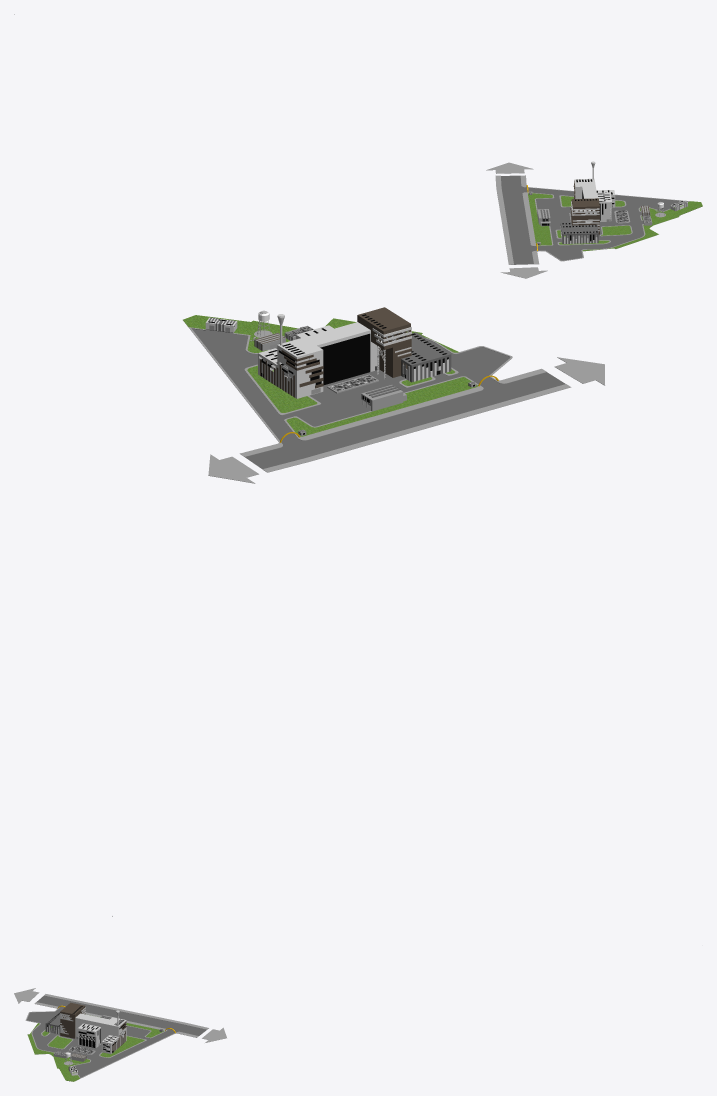
The model's file is dacbiet(test3).glb.
The picture shows the model from 3 angles, top to bottom: view 1: azimuth 30°, elevation 25°; view 2: azimuth 150°, elevation 25°; view 3: azimuth 270°, elevation 25°; orthographic projection. The views are drawn at different scales.
Parts seen in each view (by area): view 1: _(Loose Entity), _nha sx chinh (C-Component#22) (Loose Mesh); view 2: _(Loose Entity), _nha sx chinh (C-Component#22) (Loose Mesh); view 3: _(Loose Entity), _nha sx chinh (C-Component#22) (Loose Mesh), G-Object.005.
Boxes of the visible parts, bbox=[...] form: _(Loose Entity): bbox=[486, 162, 702, 278]; _nha sx chinh (C-Component#22) (Loose Mesh): bbox=[560, 161, 615, 243]; _(Loose Entity): bbox=[183, 315, 604, 483]; _nha sx chinh (C-Component#22) (Loose Mesh): bbox=[258, 307, 451, 398]; _(Loose Entity): bbox=[14, 988, 226, 1081]; _nha sx chinh (C-Component#22) (Loose Mesh): bbox=[45, 1002, 126, 1053]; G-Object.005: bbox=[77, 1023, 100, 1047].
Bounding box in the file's own units: 519 × 64.45 × 1108.
Materials: 16 (4 with a texture image).
